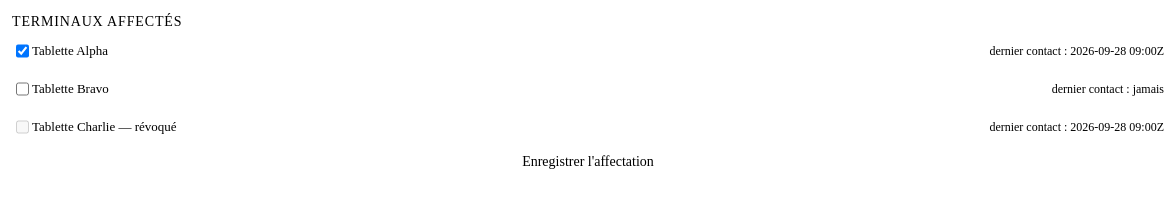
saves the new assignment
Click the checkbox labelled "Tablette Bravo" at (22, 89), box [16,73,29,105]
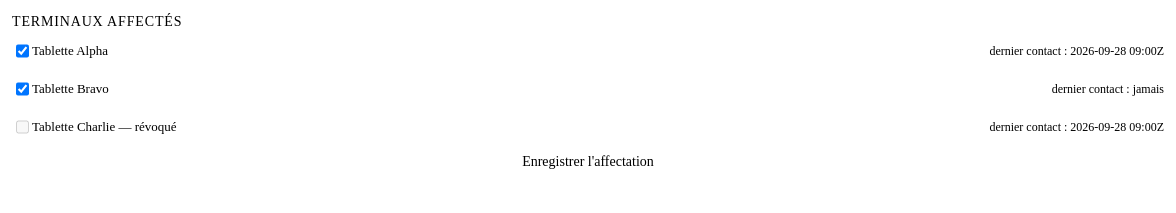
Click the button "Enregistrer l'affectation" at (588, 162), box [12,146,1164,178]
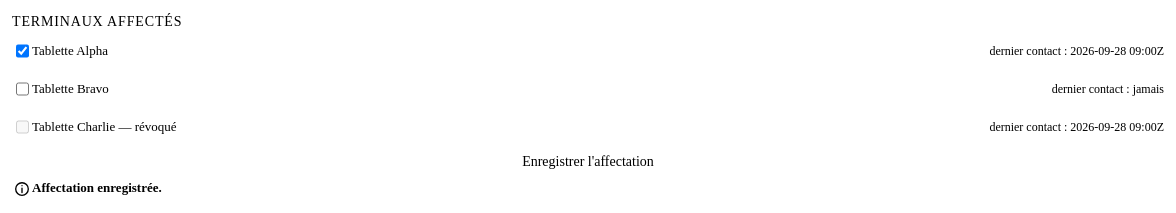
Expected: the message reads "Affectation enregistrée.", [32,180,162,195]
